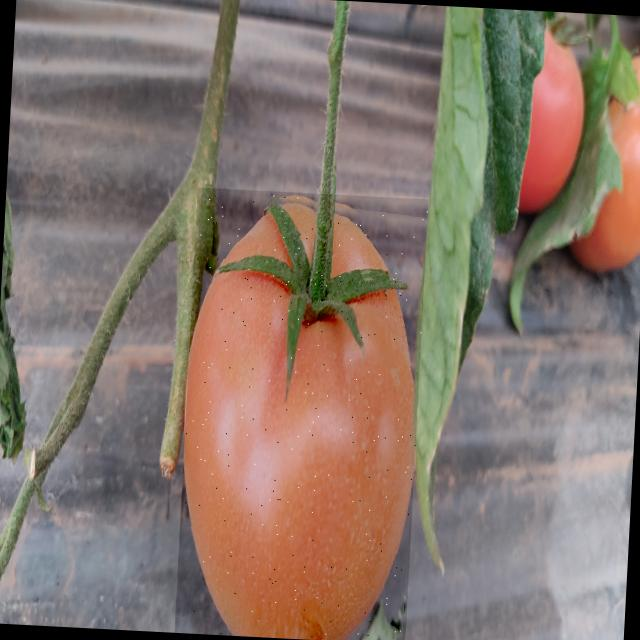Ripe Tomato: (174, 187, 428, 640)
